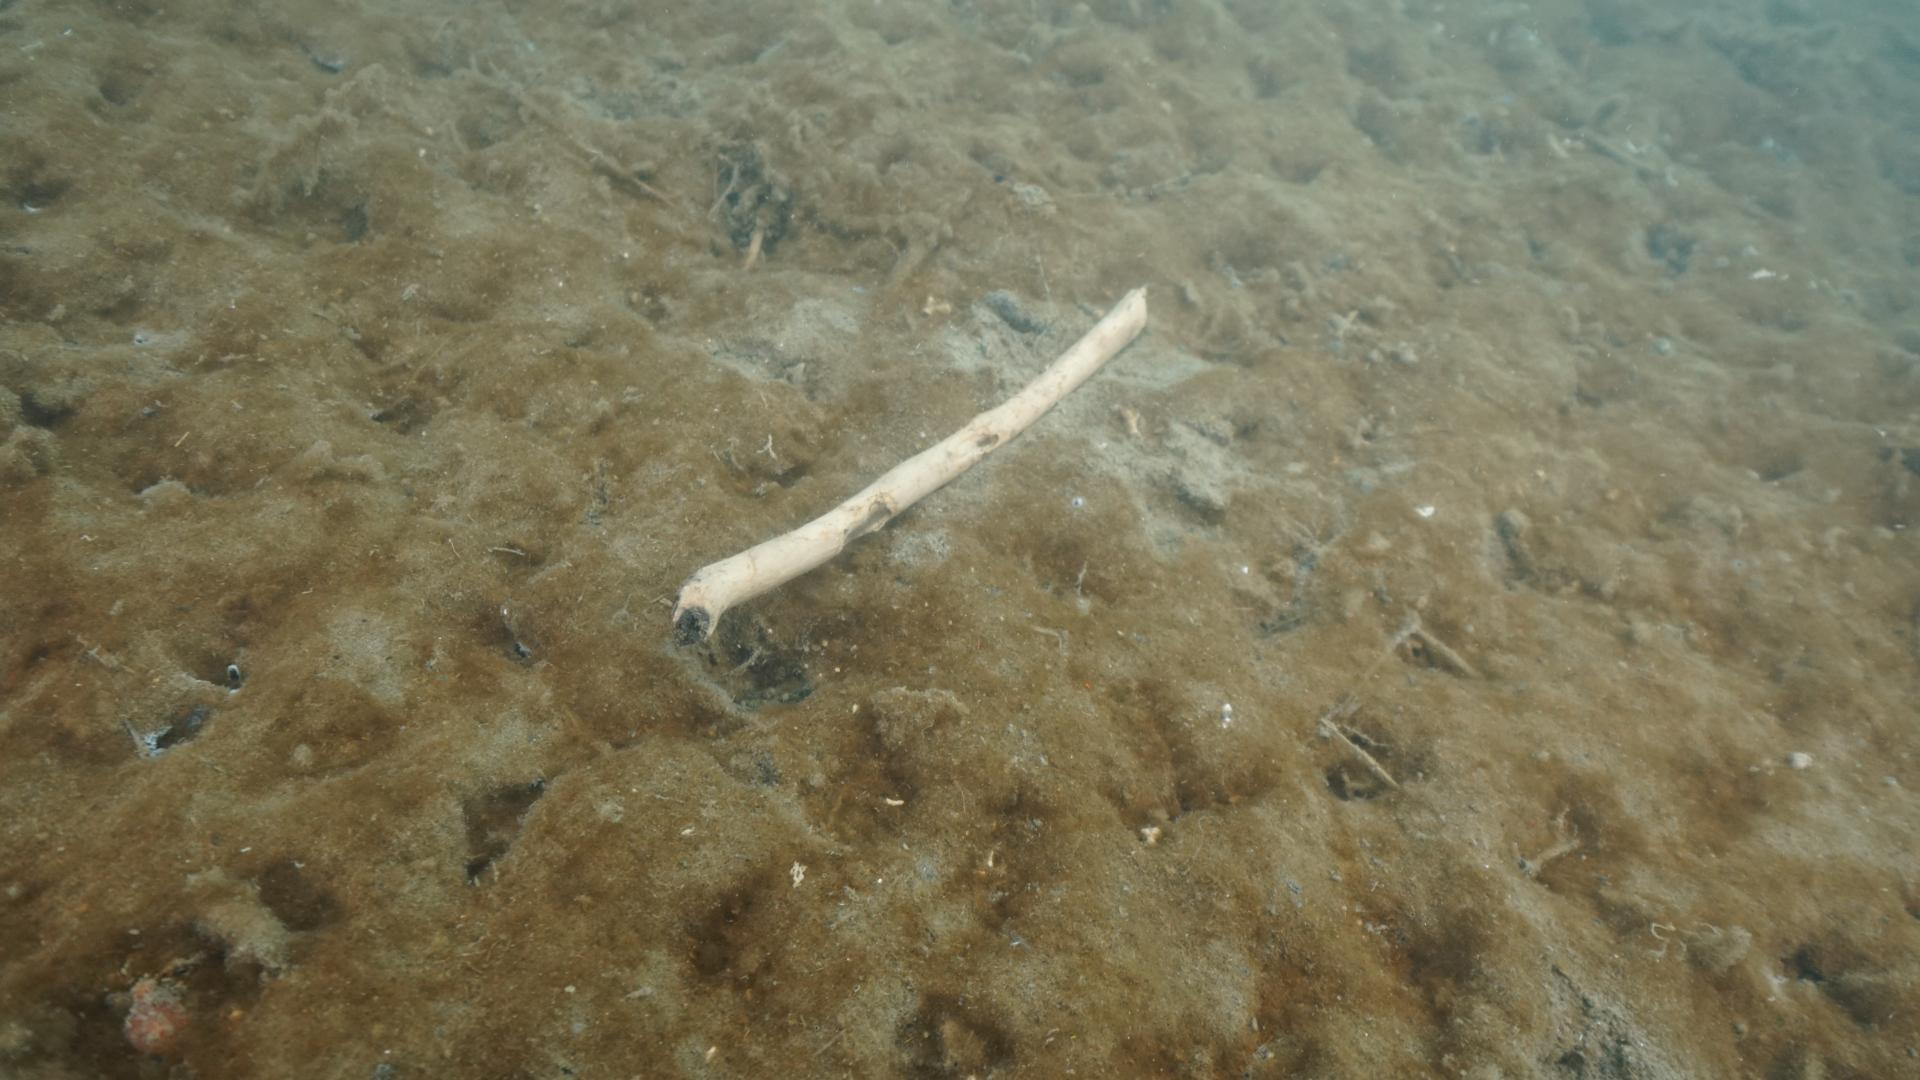wood: (669, 282, 1150, 645)
